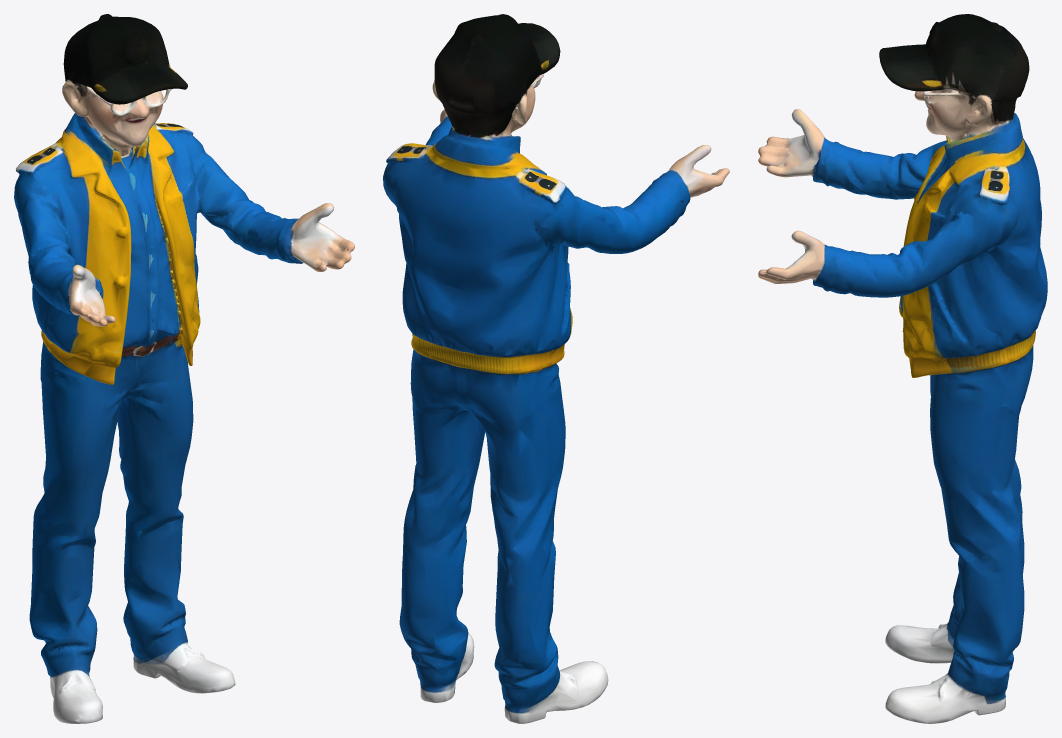
The model's file is npc_tutor_conductor.glb.
3 views of the same model, side by side, from view 1: azimuth 30°, elevation 25°; view 2: azimuth 150°, elevation 25°; view 3: azimuth 270°, elevation 25° (orthographic).
Parts seen in each view (by area): view 1: Mesh_0; view 2: Mesh_0; view 3: Mesh_0.
Part boxes in pixels (box(x1,y1,x2,y2)): Mesh_0: box(14, 14, 354, 723); Mesh_0: box(383, 14, 729, 723); Mesh_0: box(758, 14, 1047, 723).
Size of the model in its own units: 0.7588 by 1.75 by 0.688.
Materials: 1 (1 with a texture image).
